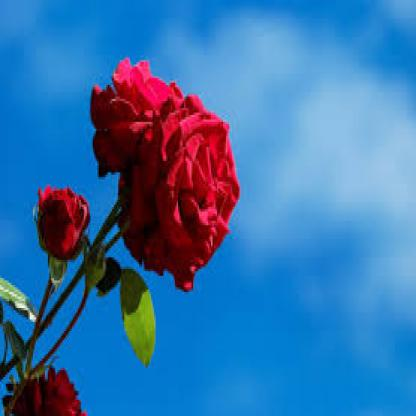Rose-Mawar: (89, 45, 242, 304), (31, 178, 92, 270), (2, 364, 88, 415)
